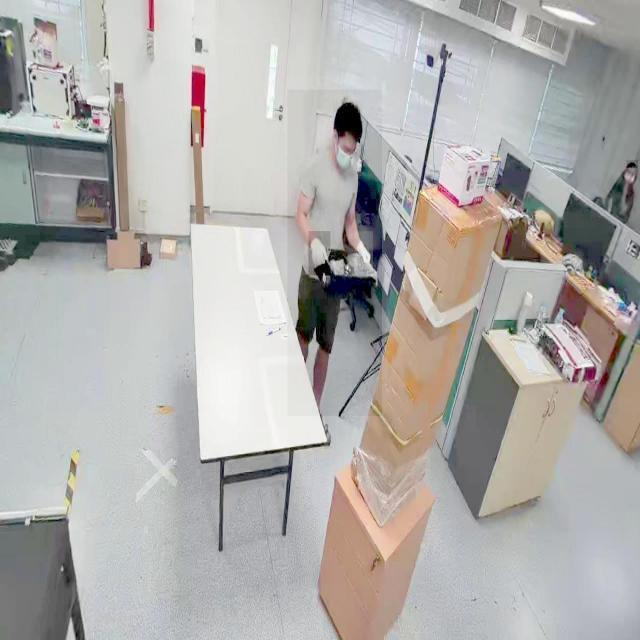gloves: (308, 231, 332, 277), (354, 231, 374, 277)
